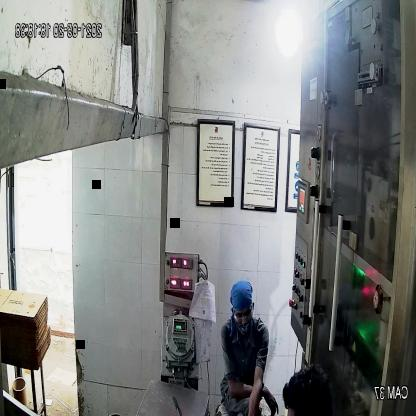goggles: (231, 306, 255, 328)
